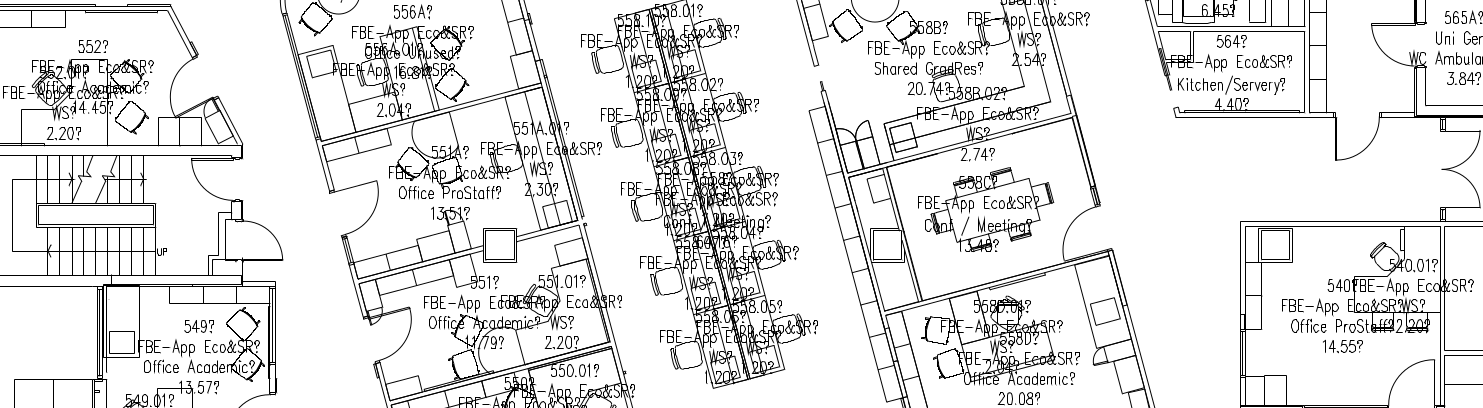door: (1425, 121, 1483, 210), (324, 175, 385, 241), (353, 304, 414, 370), (1053, 202, 1114, 268), (1330, 116, 1391, 182), (1364, 11, 1425, 73), (1378, 346, 1439, 408), (157, 57, 213, 115), (240, 210, 296, 268), (187, 155, 241, 208)
